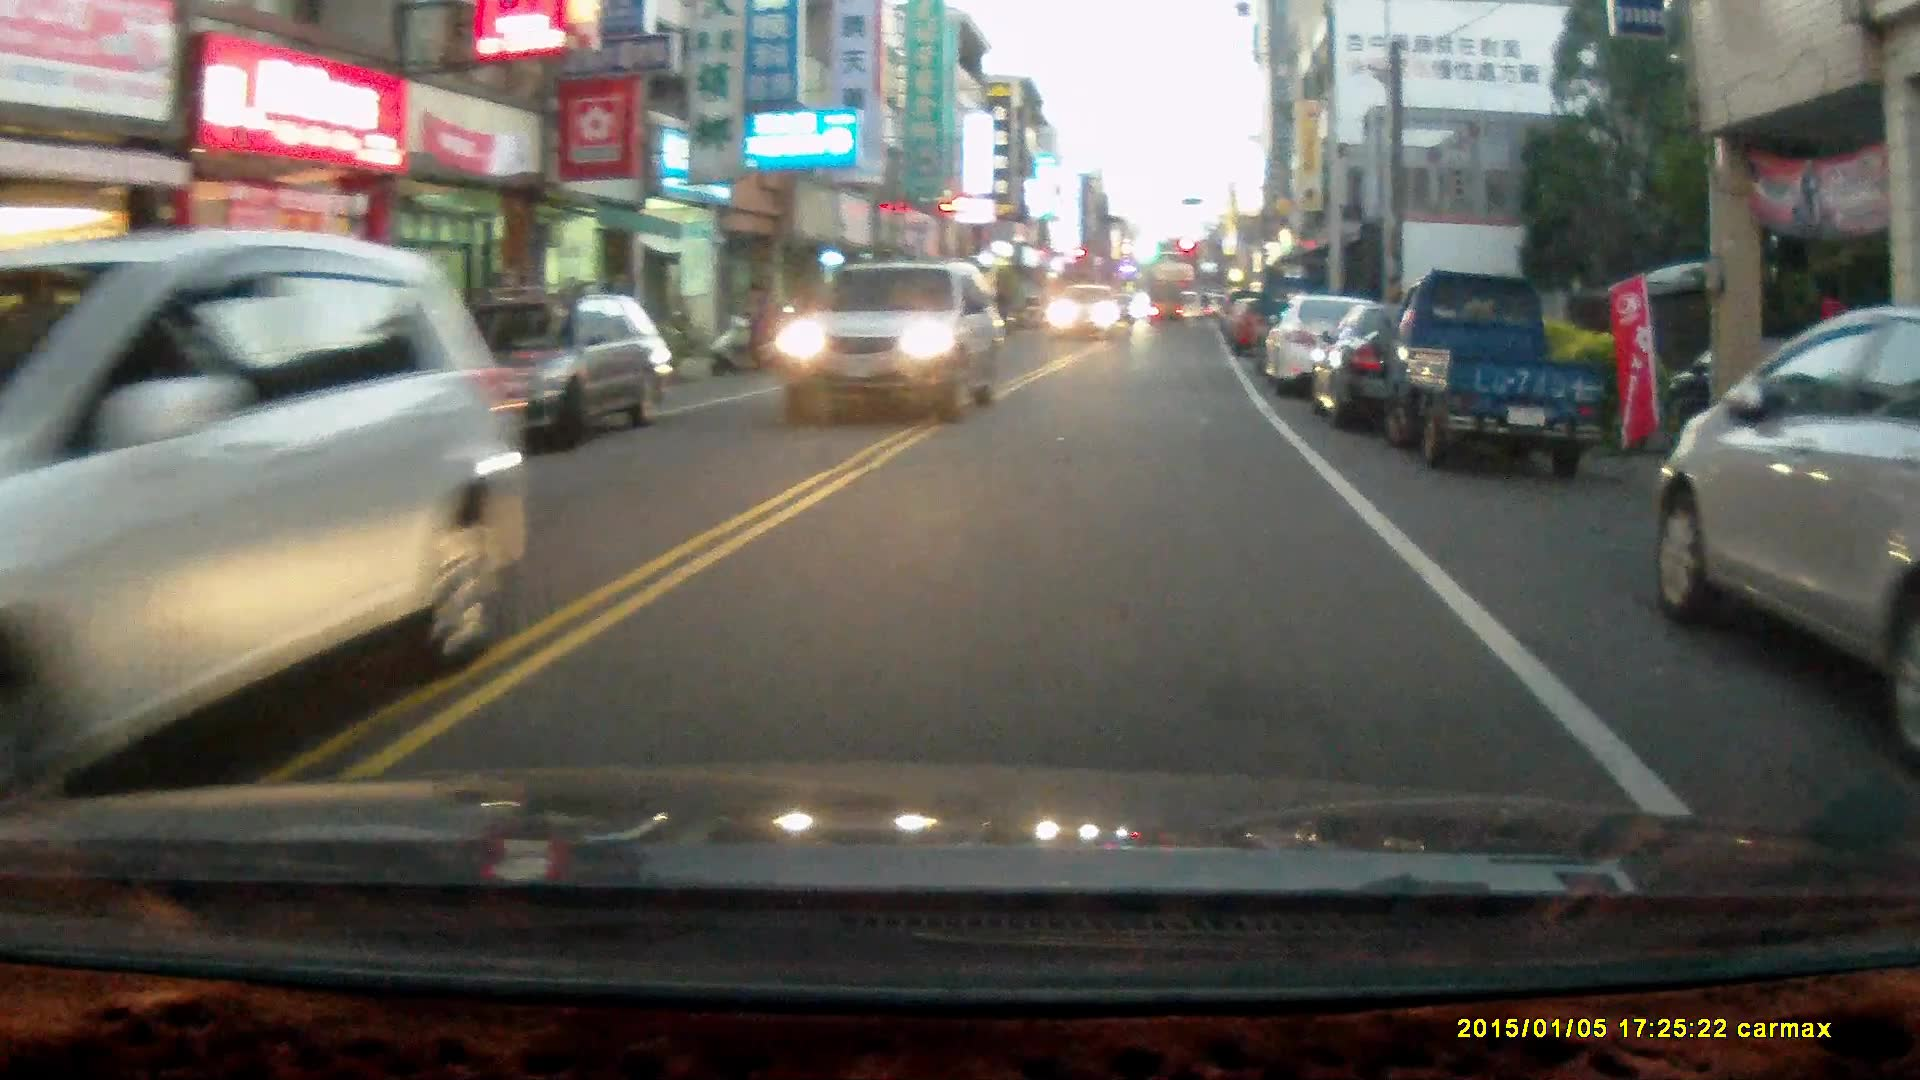pedestrian: (746, 278, 772, 369)
vehicle: (1, 228, 538, 797), (1650, 309, 1920, 710), (1378, 269, 1620, 485), (399, 295, 672, 460), (778, 265, 1007, 428), (1313, 298, 1516, 434), (1259, 294, 1413, 403), (1047, 287, 1130, 347)
